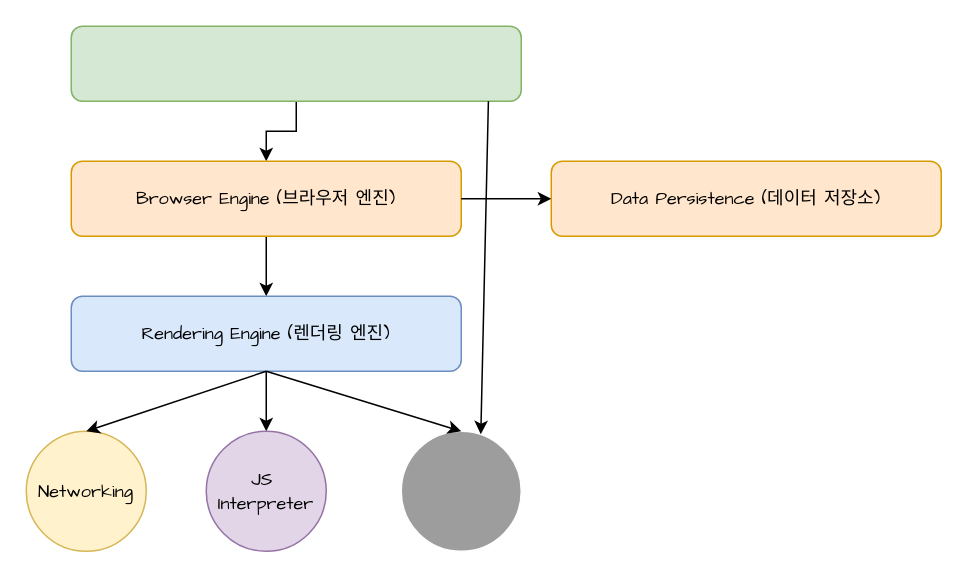
The diagram is 968 pixels wide and 578 high, and some of its shapes have lost their labels. Each missing label, with the centre of its shape:
"UI Backend" belongs at point (460, 490).
"User Interface (유저 인터페이스)" belongs at point (295, 63).
